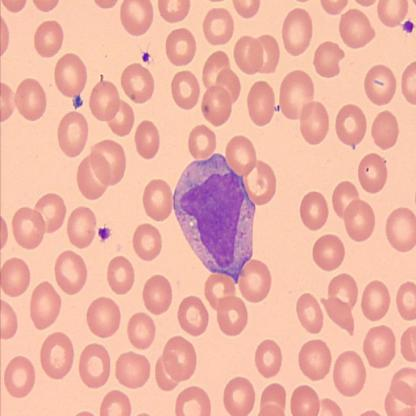Atypical lymphocyte: (175, 152, 256, 281)
